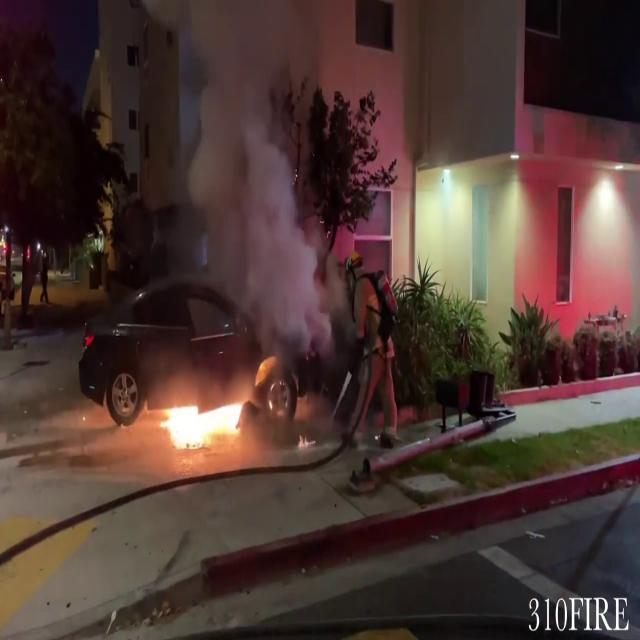Fire: (154, 386, 250, 452)
Smoke: (161, 0, 340, 340)
